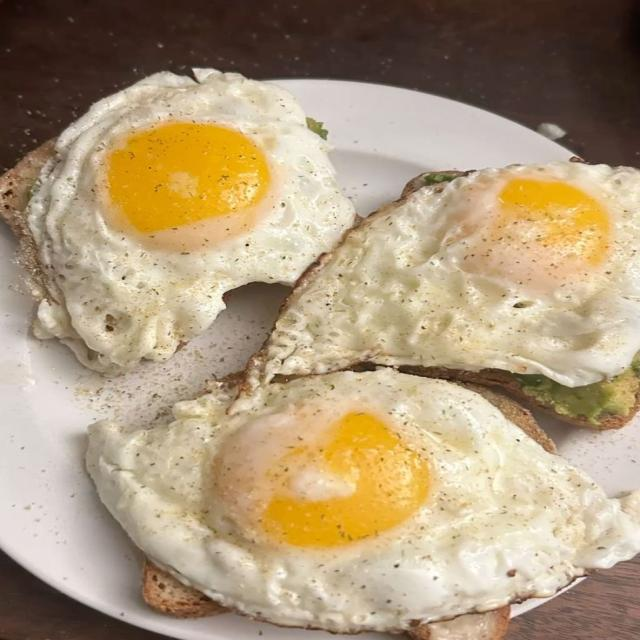fryed egg: (87, 369, 639, 632), (28, 70, 353, 373), (251, 162, 639, 386)
